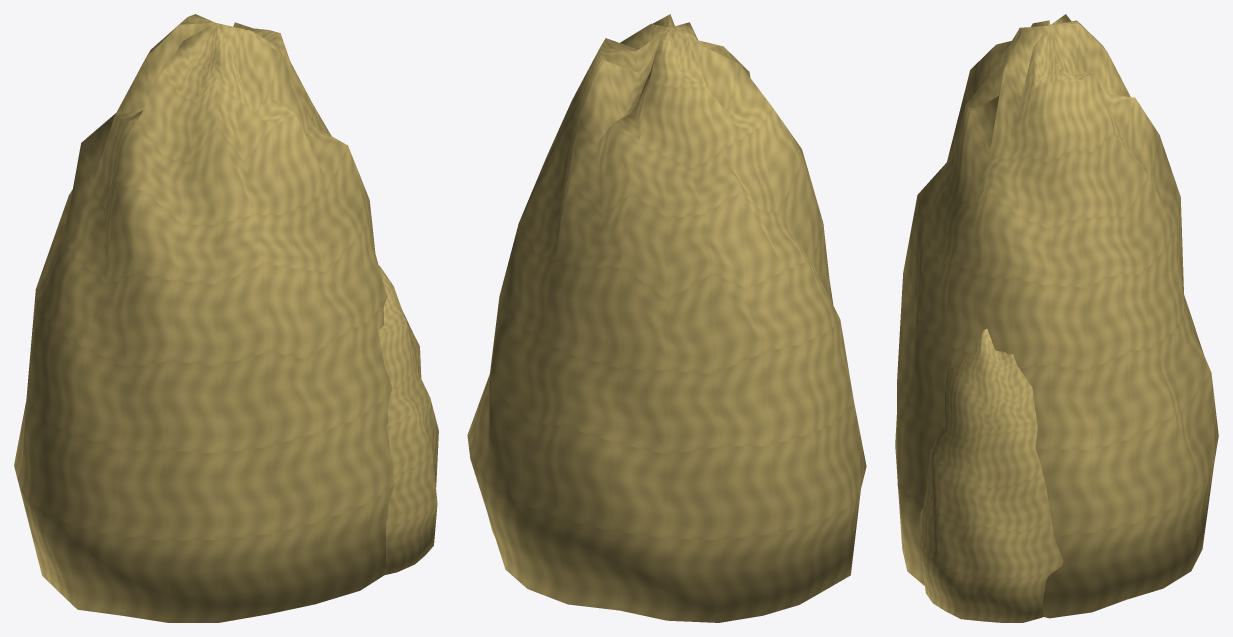
Rendered from swamp_insect_mound_swamp_and_mangrove_22660.glb.
3 renders of one model, left to right at view 1: azimuth 30°, elevation 25°; view 2: azimuth 150°, elevation 25°; view 3: azimuth 270°, elevation 25°, orthographic. The views are drawn at different scales.
Parts seen in each view (by area): view 1: insect-mound; view 2: insect-mound; view 3: insect-mound.
Part boxes in pixels (box(x1,y1,x2,y2)): insect-mound: box(14, 14, 438, 622); insect-mound: box(467, 14, 866, 622); insect-mound: box(895, 14, 1218, 622).
Size of the model in its own units: 1.75 by 2.4 by 1.37.
1 material, 1 textured.
